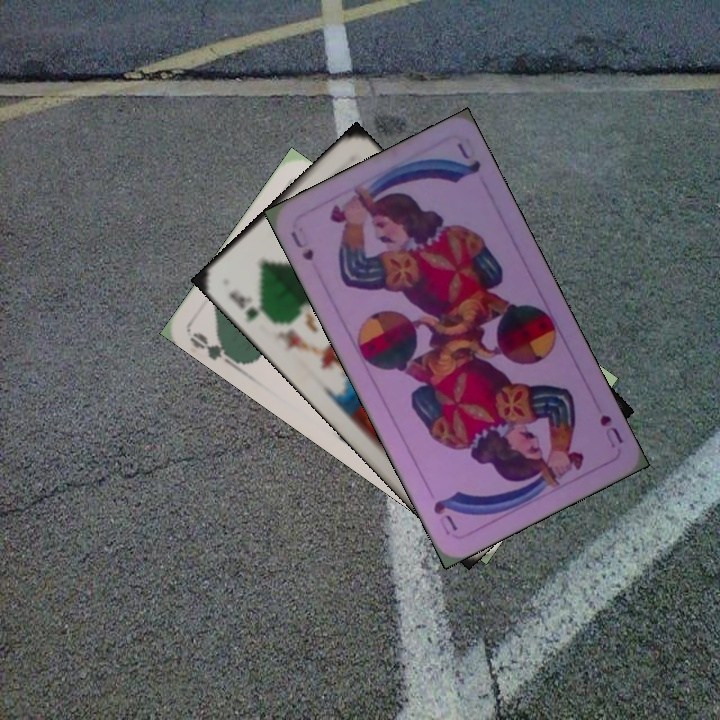GK: (224, 285, 272, 325)
GO: (186, 328, 243, 371)
SU: (595, 410, 626, 451), (286, 227, 317, 266)
